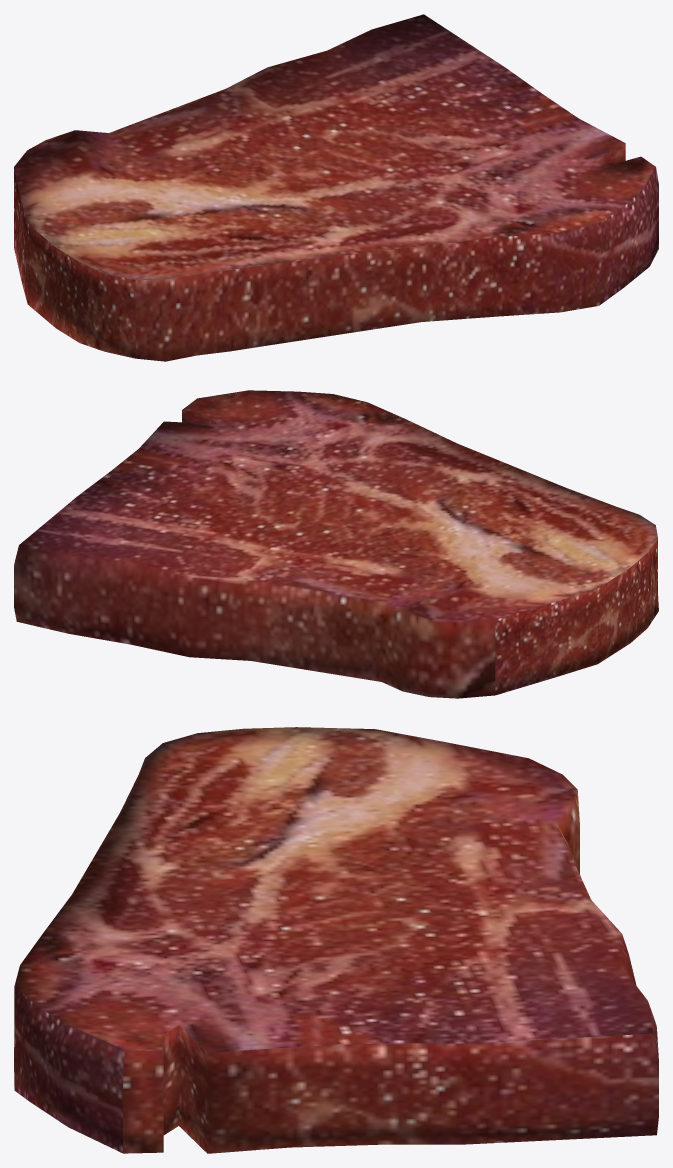
The model's file is meat.fbx.
3 renders of one model, top to bottom at view 1: azimuth 30°, elevation 25°; view 2: azimuth 150°, elevation 25°; view 3: azimuth 270°, elevation 25°, orthographic. The views are drawn at different scales.
Parts seen in each view (by area): view 1: Plane; view 2: Plane; view 3: Plane.
Part boxes in pixels (left/top/right/bottom): Plane: left=14, top=14, right=658, bottom=361; Plane: left=14, top=390, right=658, bottom=698; Plane: left=14, top=727, right=658, bottom=1153.
Size of the model in its own units: 12.88 by 2 by 10.78.
